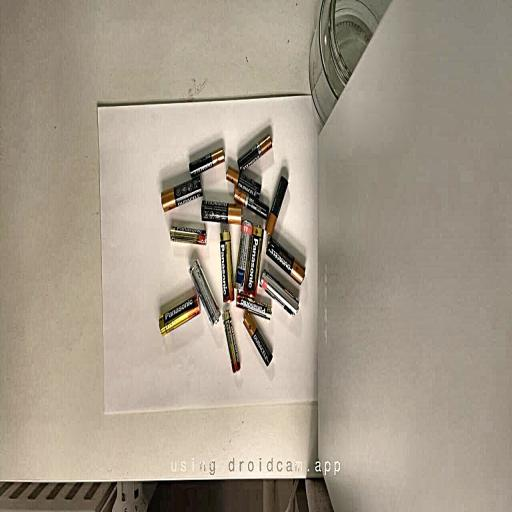DuracellAA: (266, 237, 305, 284), (161, 176, 202, 211), (201, 201, 242, 224)
DuracellAAA: (244, 312, 272, 366), (265, 176, 288, 236), (238, 134, 272, 171), (234, 187, 268, 220), (226, 166, 260, 198), (189, 147, 224, 177)
PanasonicAA: (159, 294, 200, 336), (243, 225, 263, 297), (220, 229, 234, 302)
PanasonicAAA: (222, 309, 240, 373), (236, 292, 271, 319), (170, 225, 206, 245)
RainbowAA: (189, 260, 220, 326), (260, 270, 299, 316), (235, 220, 252, 292)
